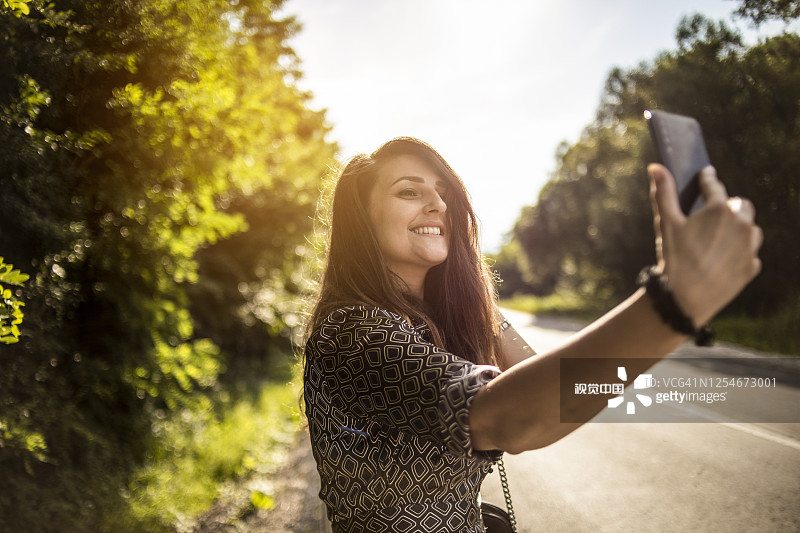taking photos: (621, 110, 777, 337)
